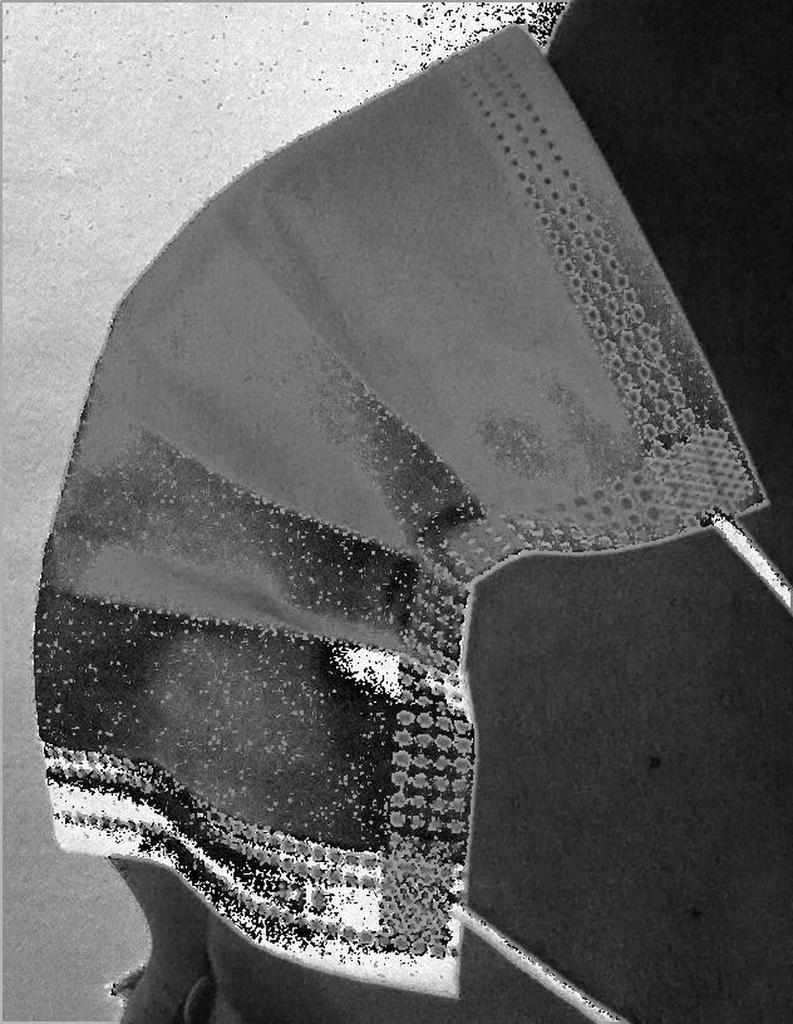Low GSM: (22, 15, 774, 1002)
